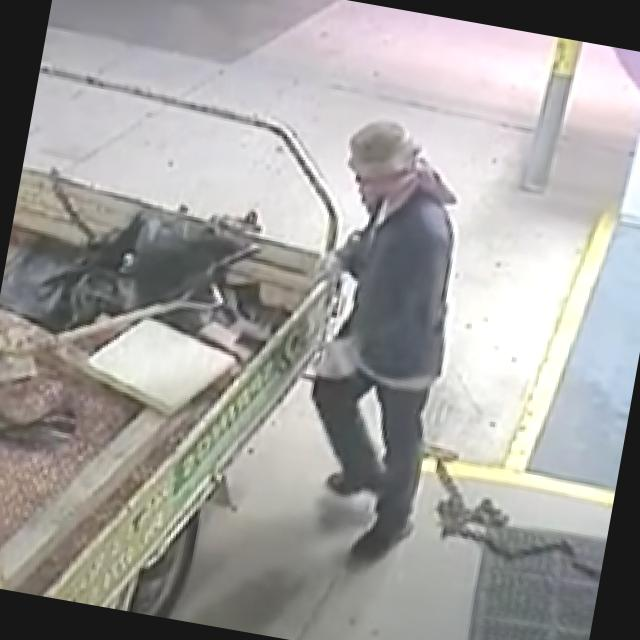person: (267, 113, 484, 574)
